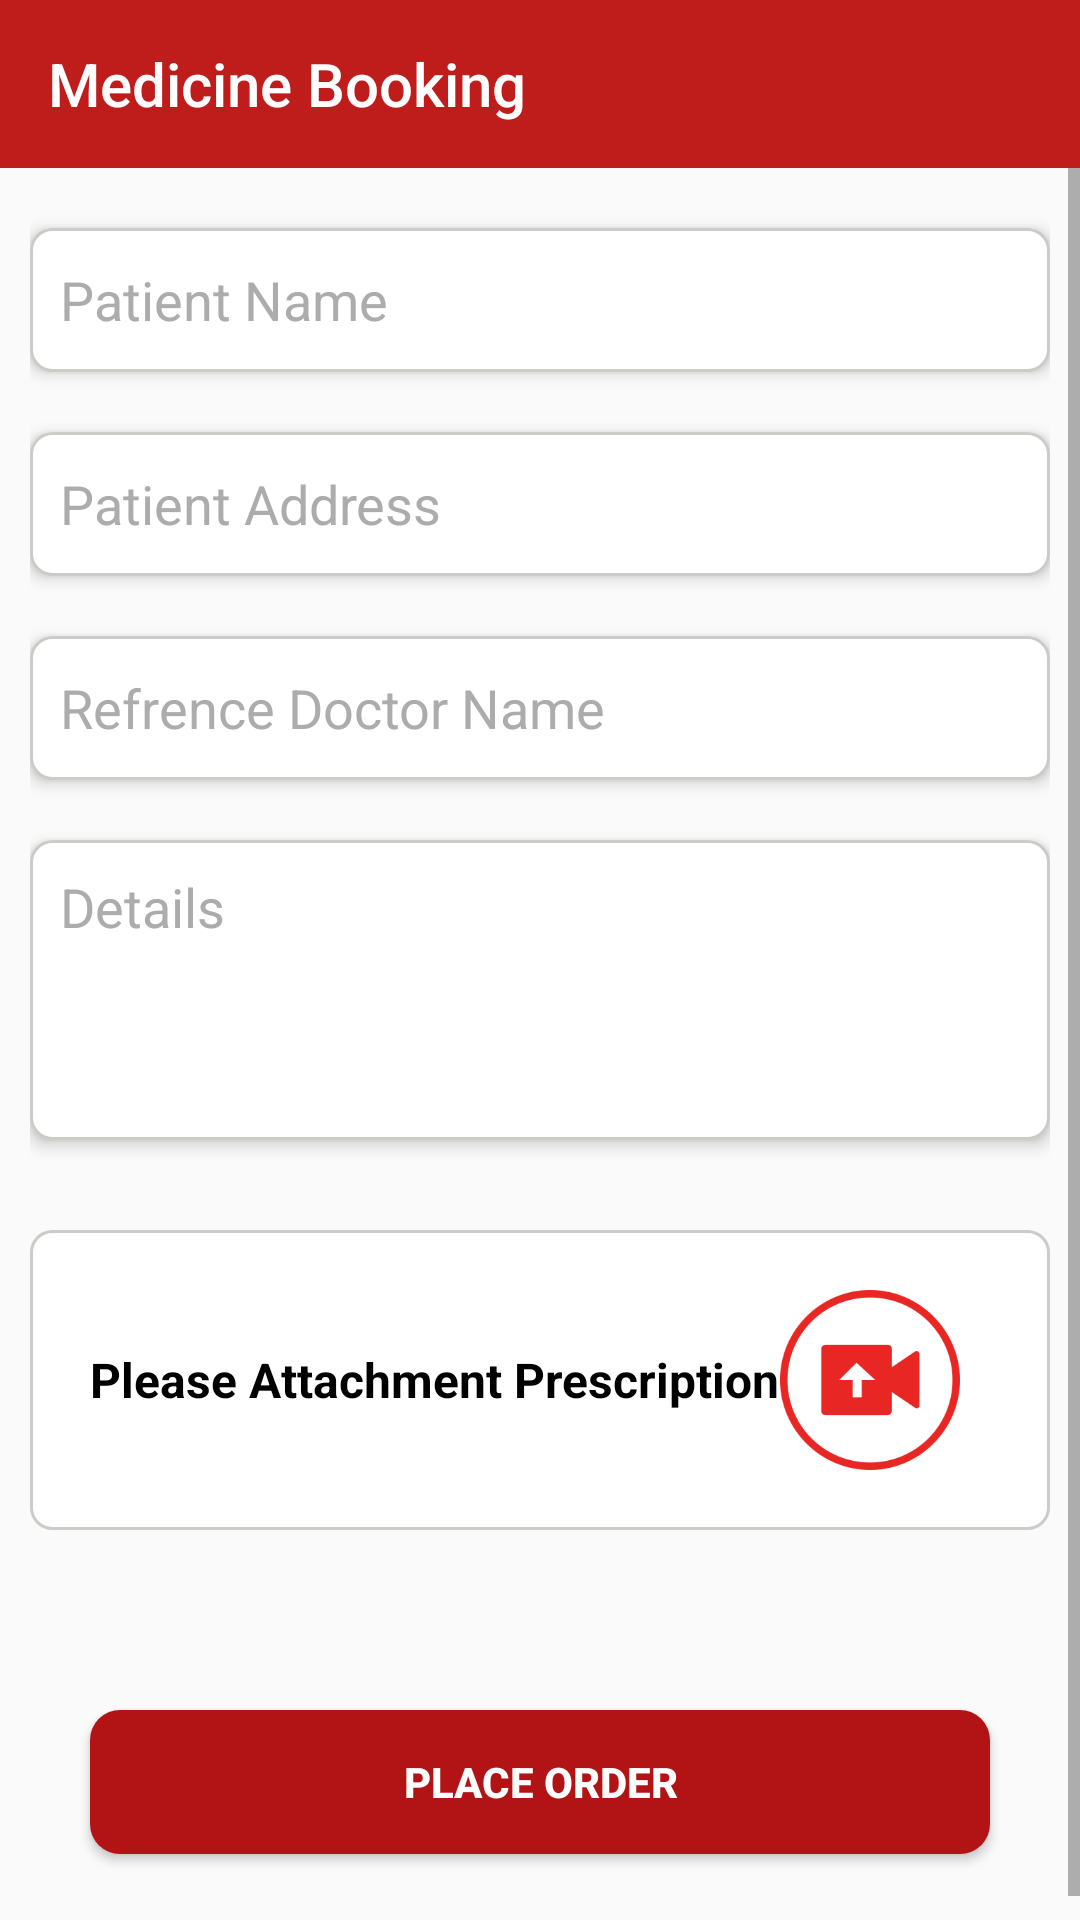

Screen size 1080*1920. Icon name, then its box in pixels as (x1, y1, x2, y2):
camera upload: (754, 1290, 960, 1470)
